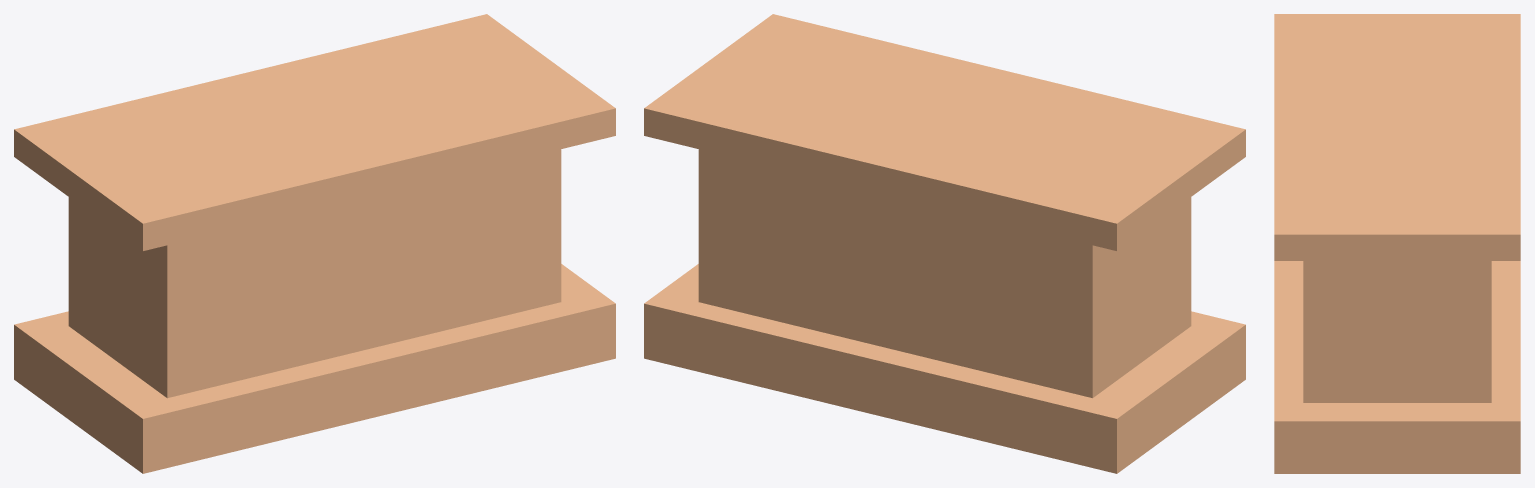
3 views of the same model, side by side, from view 1: azimuth 30°, elevation 25°; view 2: azimuth 150°, elevation 25°; view 3: azimuth 270°, elevation 25° (orthographic). The views are drawn at different scales.
Visible parts, largest first — view 1: Top, Altar, Base; view 2: Top, Altar, Base; view 3: Top, Altar, Base.
Boxes of the visible parts, x1,y1,x2,y2 form: Top: [14, 14, 615, 250]; Altar: [68, 149, 561, 398]; Base: [14, 264, 615, 473]; Top: [644, 14, 1245, 250]; Altar: [698, 149, 1191, 398]; Base: [644, 264, 1245, 473]; Top: [1274, 14, 1520, 260]; Altar: [1303, 261, 1491, 402]; Base: [1274, 261, 1520, 473].
Bounding box in the file's own units: 1.8 × 0.91 × 0.85.
1 material, 1 textured.
